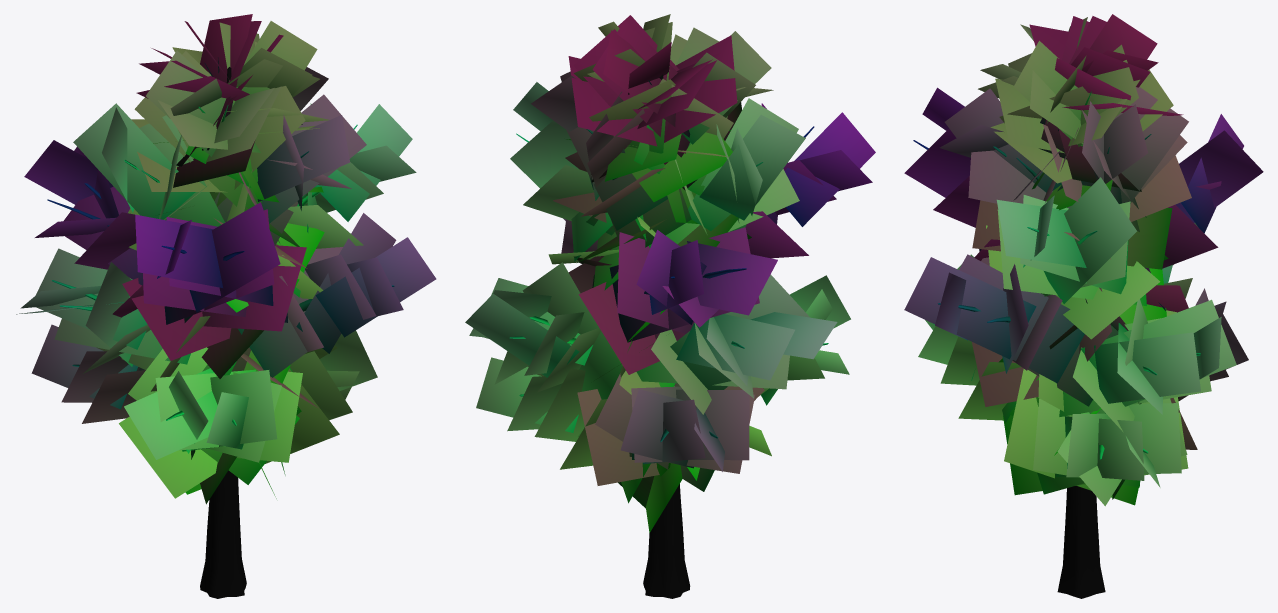
The model's file is SM_Tree02.fbx.
3 renders of one model, left to right at view 1: azimuth 30°, elevation 25°; view 2: azimuth 150°, elevation 25°; view 3: azimuth 270°, elevation 25°, orthographic.
Parts seen in each view (by area): view 1: Tree_1, Tree_0; view 2: Tree_1, Tree_0; view 3: Tree_1, Tree_0.
Boxes of the visible parts, <box> form: Tree_1: <box>16,14,436,504</box>; Tree_0: <box>47,57,394,598</box>; Tree_1: <box>465,14,875,532</box>; Tree_0: <box>510,74,828,598</box>; Tree_1: <box>904,14,1263,506</box>; Tree_0: <box>913,91,1200,598</box>.
Size of the model in its own units: 211 by 324 by 188.
